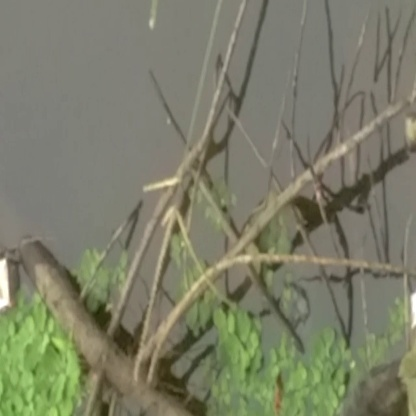branch: (163, 98, 416, 281)
